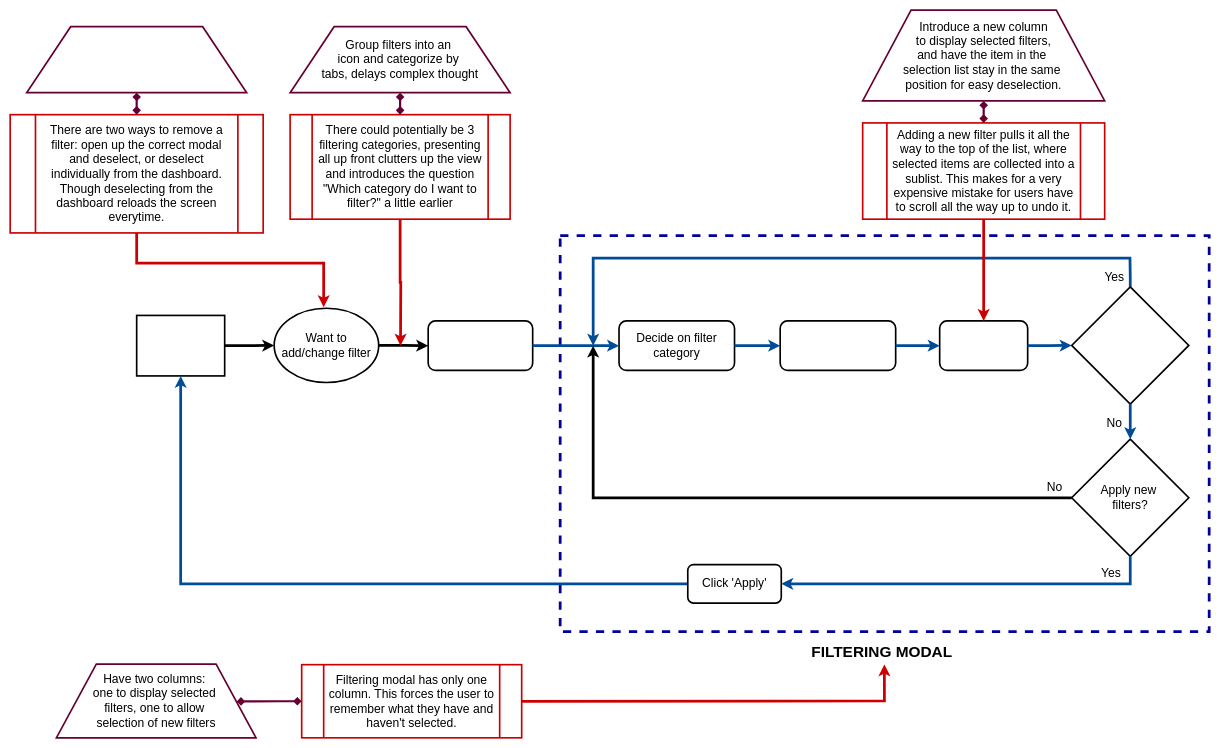
Some shapes in this 1220 by 748 pixel diagram are drawn without their labels. Each missing label, with the centre of its shape:
"Add/remove another filter?" belongs at point (1130, 345).
"Add/remove filter" belongs at point (983, 345).
"Do not afford for users to remove filters from the dashboard" belongs at point (136, 59).
"Main View (dashboard)" belongs at point (180, 345).
"Select filter subcategory" belongs at point (837, 345).
"Tap on filter icon" belongs at point (480, 345).
